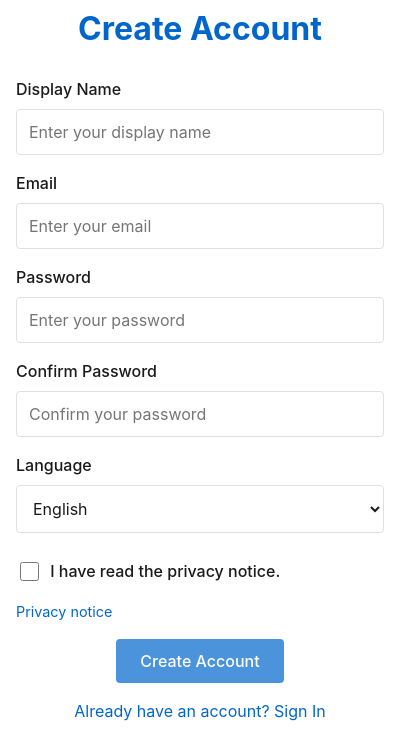
Scenario: Register.vue — privacy notice acceptance › keeps submit disabled until the privacy checkbox is ticked, even with every other field valid
The image size is (401, 738).
Type "Alice" into the field with id "displayName" at (200, 132), box [16,109,384,155]
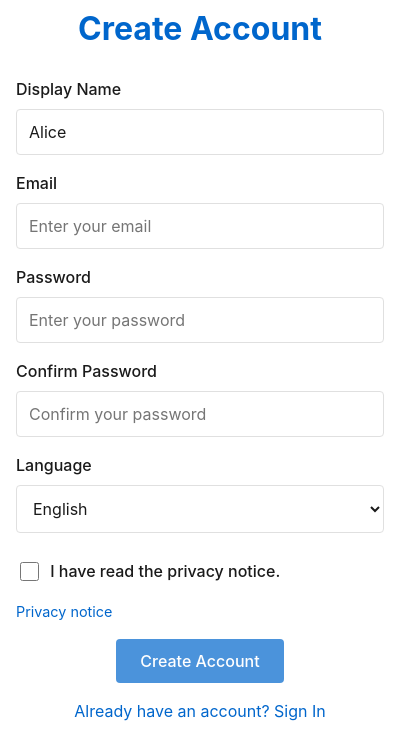
Type "alice@example.org" into the field with id "email" at (200, 226), box [16,203,384,249]
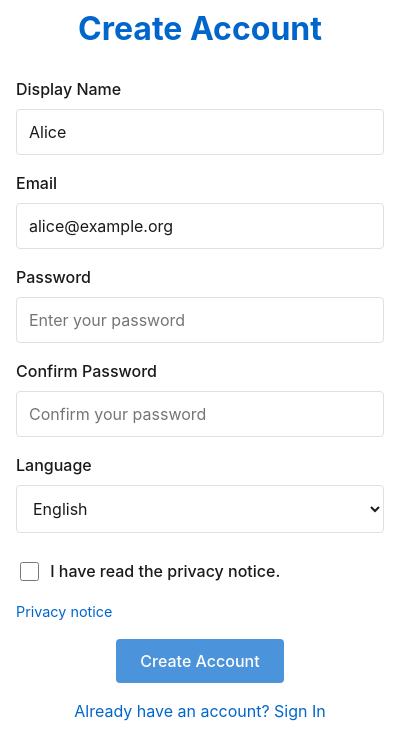
Type "correcthorsebattery" into the password field labelled "Password" at (200, 320), box [16,297,384,343]
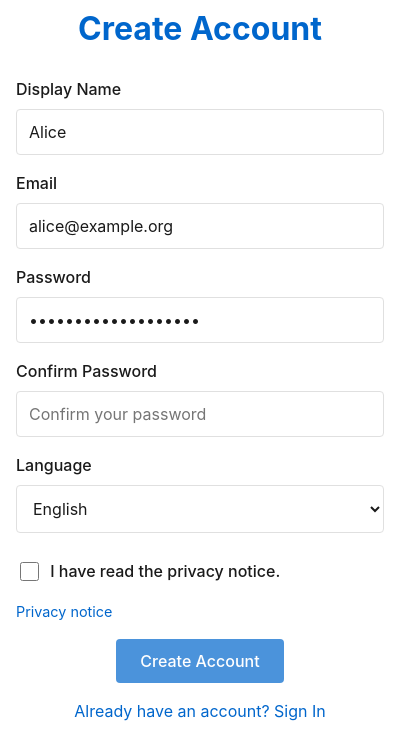
Type "correcthorsebattery" into the password field with id "confirmPassword" at (200, 414), box [16,391,384,437]
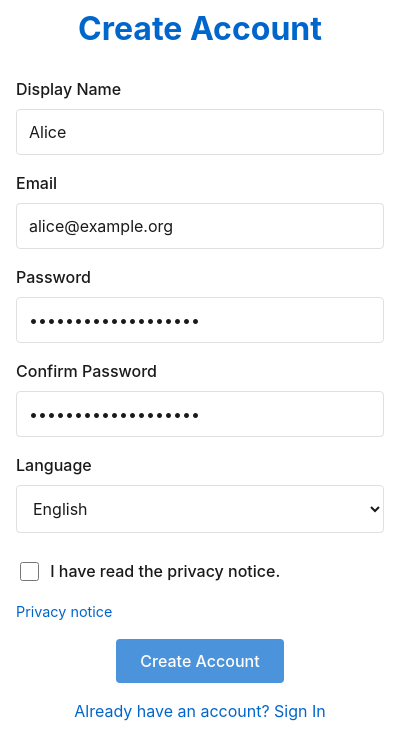
Expected: the submit button is disabled, [116,639,284,683]
Click the checkbox labelled "I have read the privacy notice." at (30, 571), box [20,562,39,581]
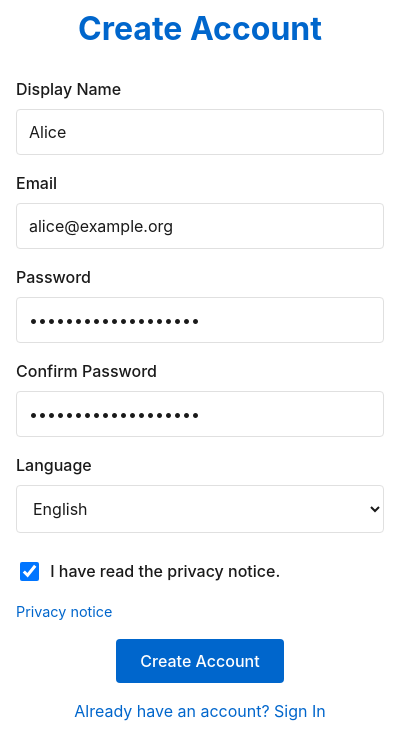
Expected: the submit button is enabled, [116,639,284,683]
